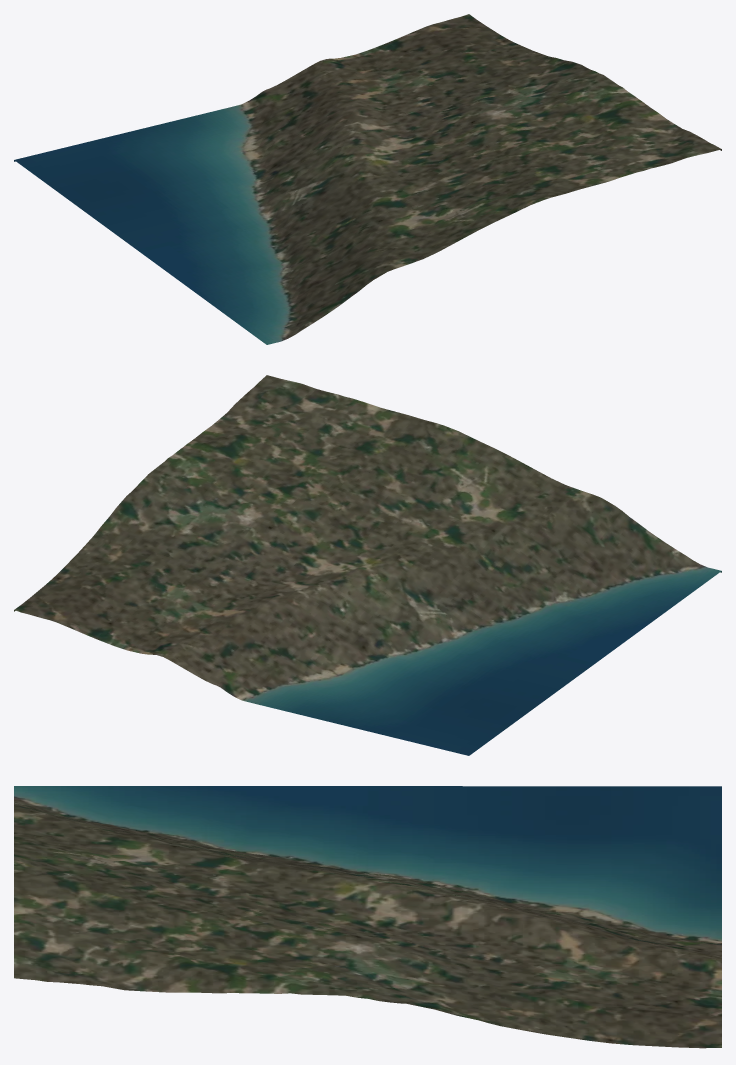
3 renders of one model, top to bottom at view 1: azimuth 30°, elevation 25°; view 2: azimuth 150°, elevation 25°; view 3: azimuth 270°, elevation 25°, orthographic. The views are drawn at different scales.
Bounding box in the file's own units: 250 × 45.54 × 241.
1 material, 1 textured.
